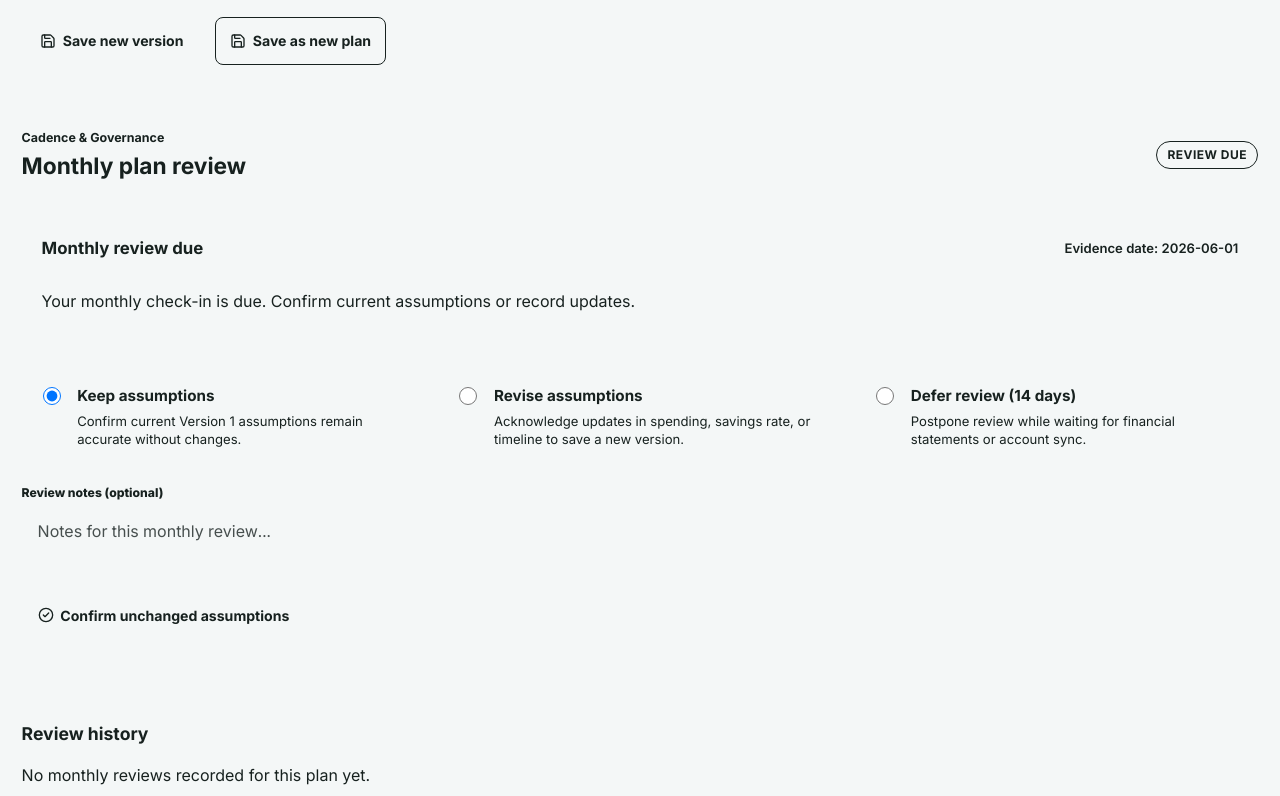
Scenario: B11 & B28: Monthly Plan Review & Goals Presentation UI › PlanningWorkspace Review Panel Presentation (B11) › presents an explicit revision next-step banner and truthful status when Revise assumptions is chosen
(page scrolled)
Click the 2nd radio button at (468,396), box [459,387,477,405]
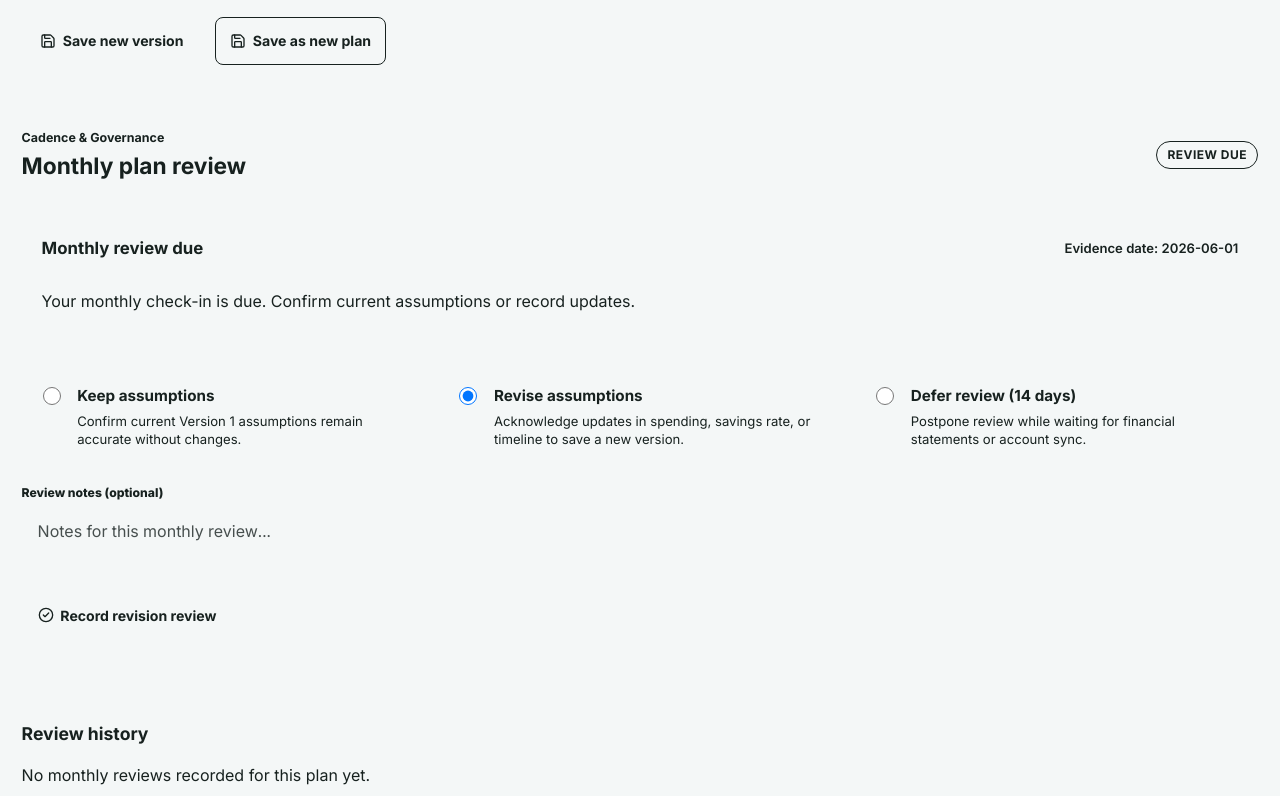
Check: the button "Record revision review" is shown
Click submit
Click the button "Record revision review" at (127,615), box [22,591,232,639]
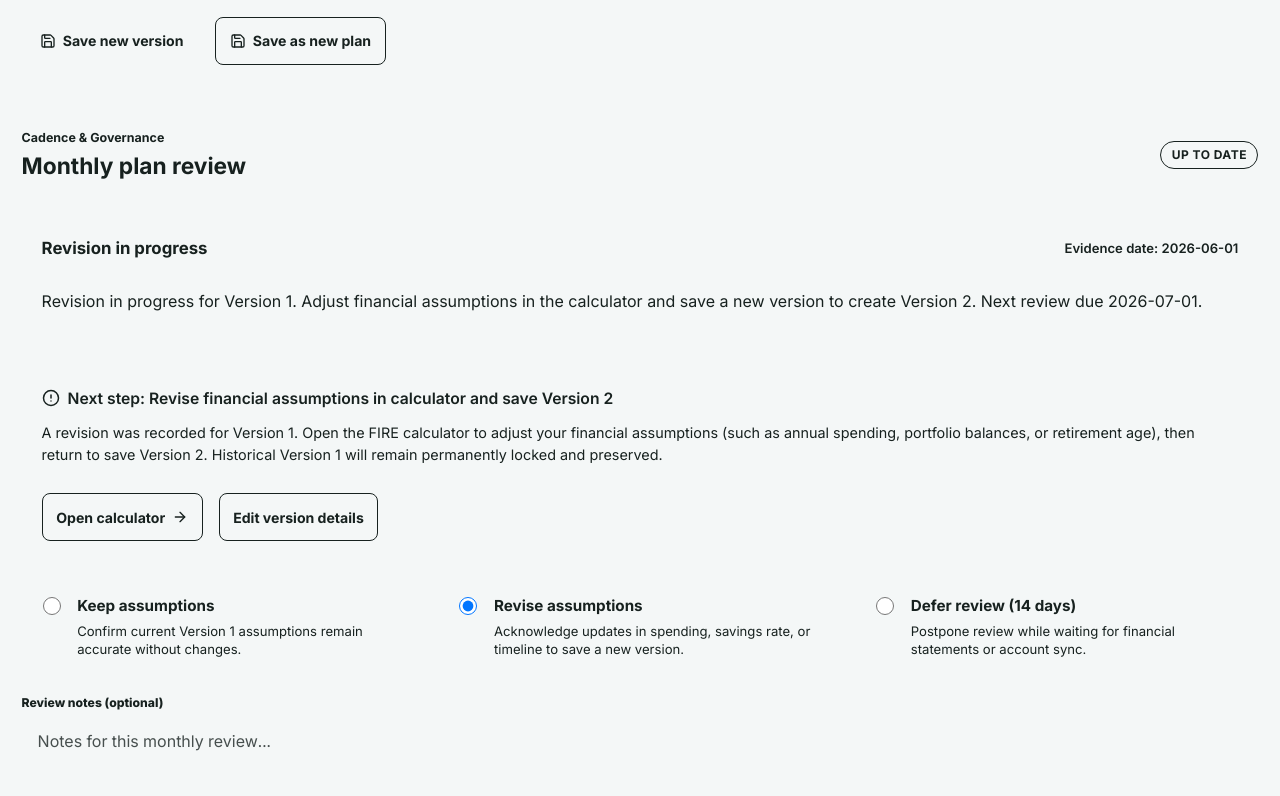
Check: the element with test id "plan-revision-prompt" shows "Next step: Revise financial assumptions in calculator and save Version 2", box [22,369,1258,559]
Check: the element with test id "plan-revision-prompt" shows "save Version 2", box [22,369,1258,559]
Check: the element with test id "plan-revision-prompt" shows "Historical Version 1 will remain permanently locked and preserved", box [22,369,1258,559]
